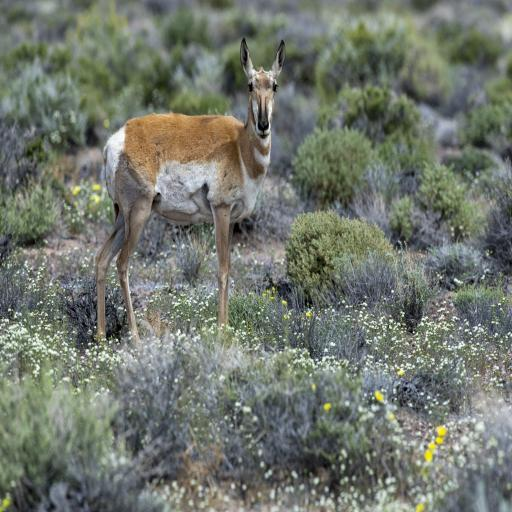antelope: (75, 19, 298, 356)
